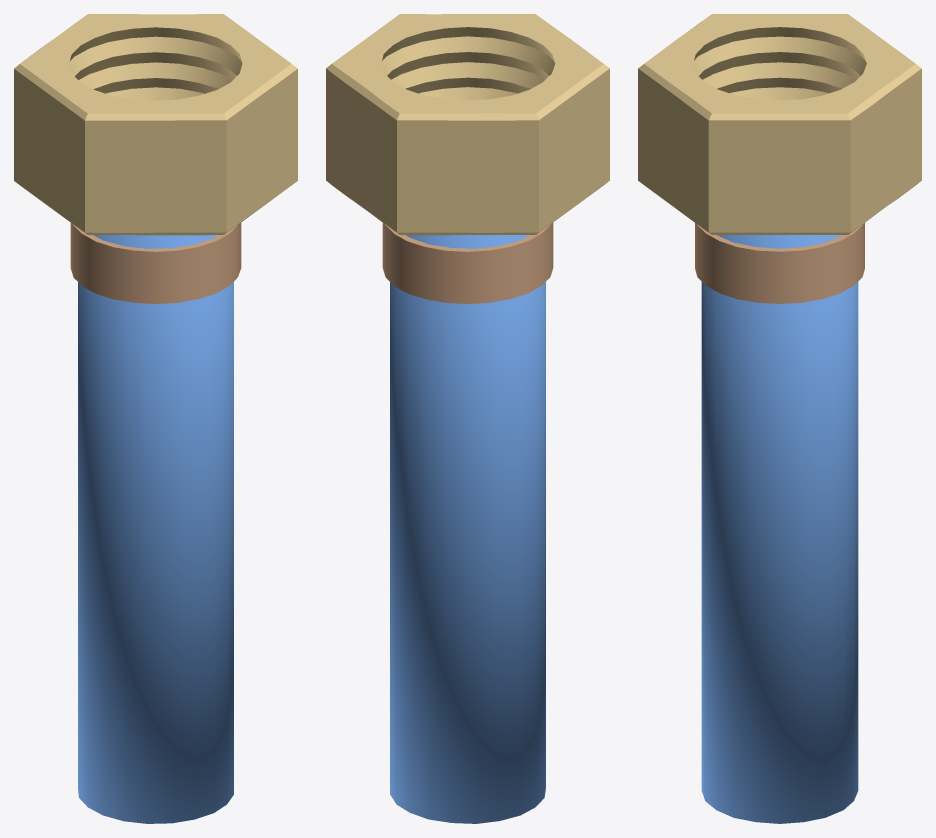
Rendered from slab_pipes_supply__water_heater__b2401a7a.glb.
3 renders of one model, left to right at view 1: azimuth 30°, elevation 25°; view 2: azimuth 150°, elevation 25°; view 3: azimuth 270°, elevation 25°, orthographic.
Parts seen in each view (by area): view 1: pipe_supply_prv_wh_tankless__pex, fit_adapter_pipe_supply_prv_wh_tankless__pex; view 2: pipe_supply_prv_wh_tankless__pex, fit_adapter_pipe_supply_prv_wh_tankless__pex; view 3: pipe_supply_prv_wh_tankless__pex, fit_adapter_pipe_supply_prv_wh_tankless__pex.
Boxes of the visible parts, left/top/right/bottom form: pipe_supply_prv_wh_tankless__pex: left=78, top=235, right=233, bottom=823; fit_adapter_pipe_supply_prv_wh_tankless__pex: left=14, top=14, right=297, bottom=303; pipe_supply_prv_wh_tankless__pex: left=390, top=235, right=545, bottom=823; fit_adapter_pipe_supply_prv_wh_tankless__pex: left=326, top=14, right=609, bottom=303; pipe_supply_prv_wh_tankless__pex: left=701, top=235, right=858, bottom=823; fit_adapter_pipe_supply_prv_wh_tankless__pex: left=638, top=14, right=921, bottom=303.
Bounding box in the file's own units: 0.0349 × 0.1139 × 0.0403.
